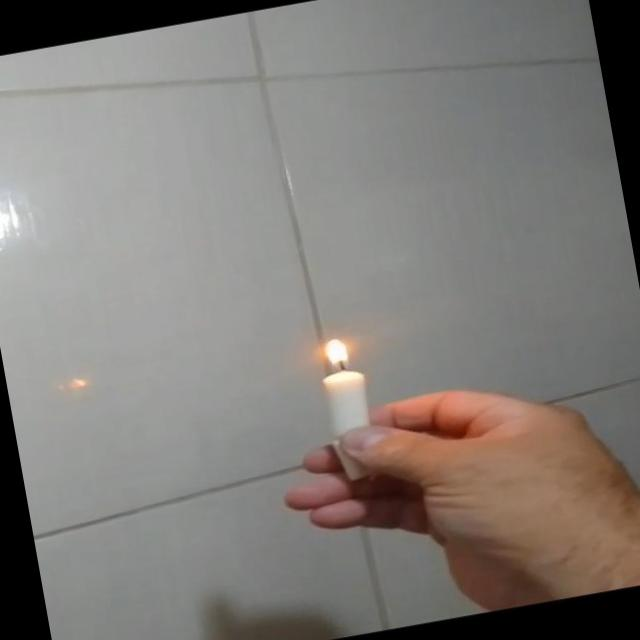Fire: (317, 334, 353, 372)
